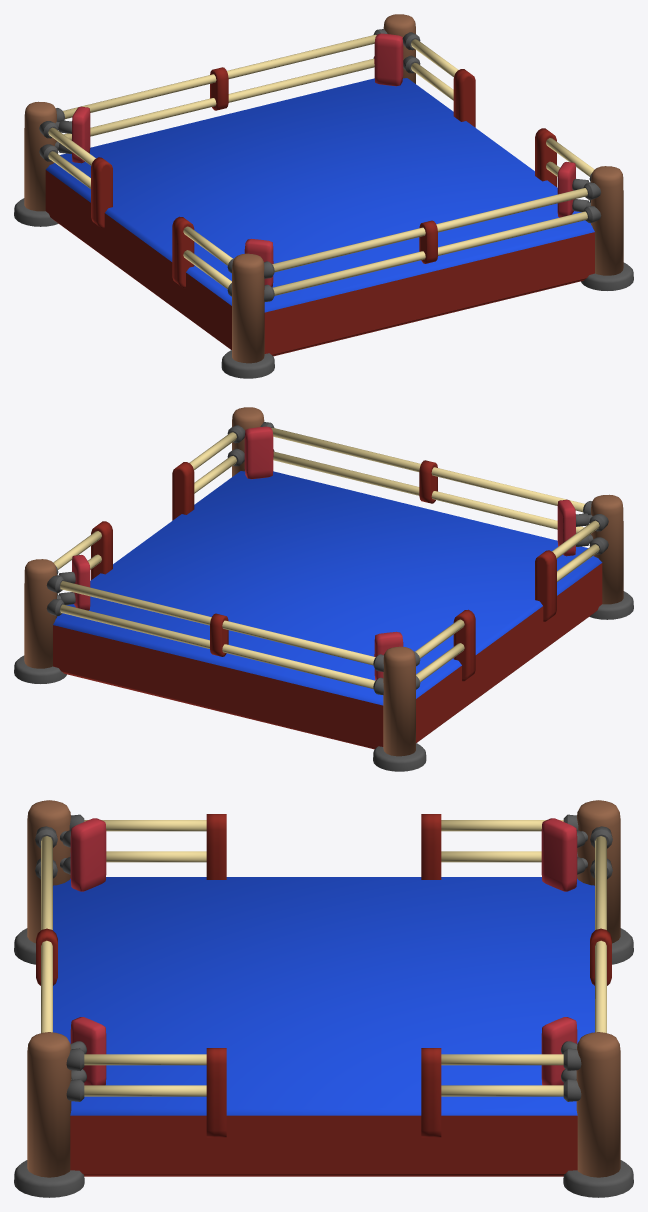
The model's file is Ring.fbx.
3 views of the same model, one above another, from view 1: azimuth 30°, elevation 25°; view 2: azimuth 150°, elevation 25°; view 3: azimuth 270°, elevation 25° (orthographic). The views are drawn at different scales.
Visible parts, largest first — view 1: Cube.003_Cube.004; view 2: Cube.003_Cube.004; view 3: Cube.003_Cube.004.
Part boxes in pixels (left/top/right/bottom): Cube.003_Cube.004: left=14, top=14, right=633, bottom=378; Cube.003_Cube.004: left=14, top=407, right=633, bottom=771; Cube.003_Cube.004: left=14, top=800, right=633, bottom=1197.
Bounding box in the file's own units: 542 × 141 × 542.
